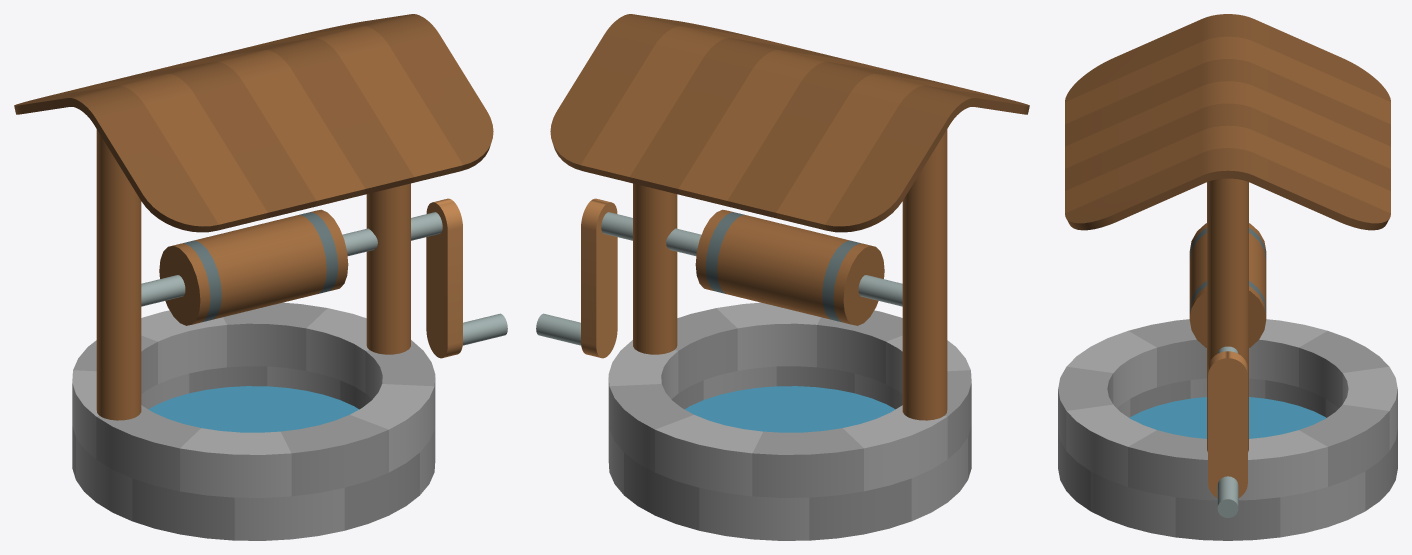
Rendered from Well.fbx.
3 renders of one model, left to right at view 1: azimuth 30°, elevation 25°; view 2: azimuth 150°, elevation 25°; view 3: azimuth 270°, elevation 25°, orthographic. The views are drawn at different scales.
Visible parts, largest first — view 1: Well, lever; view 2: Well, lever; view 3: Well, lever.
Boxes of the visible parts, x1,y1,x2,y2 form: Well: (14,14,493,540); lever: (141,198,507,358); Well: (550,14,1029,540); lever: (536,198,902,358); Well: (1058,14,1397,540); lever: (1189,223,1266,517).
Bounding box in the file's own units: 2.84 × 2.61 × 2.13.
